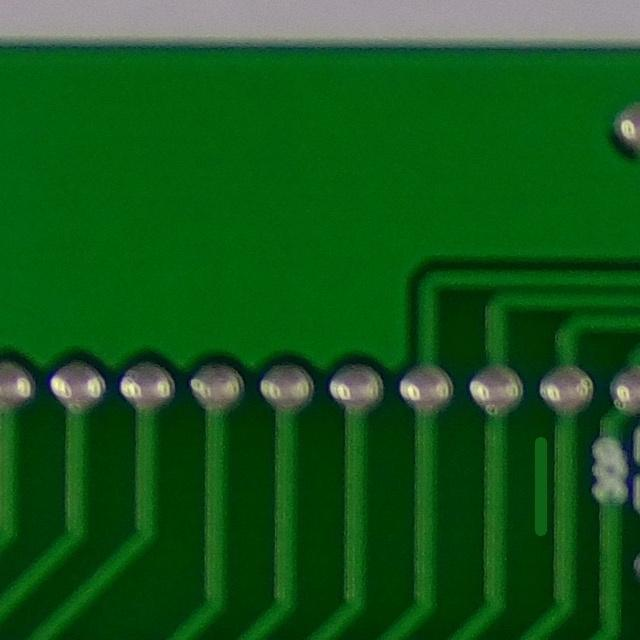spurious_copper: (517, 425, 565, 541)
